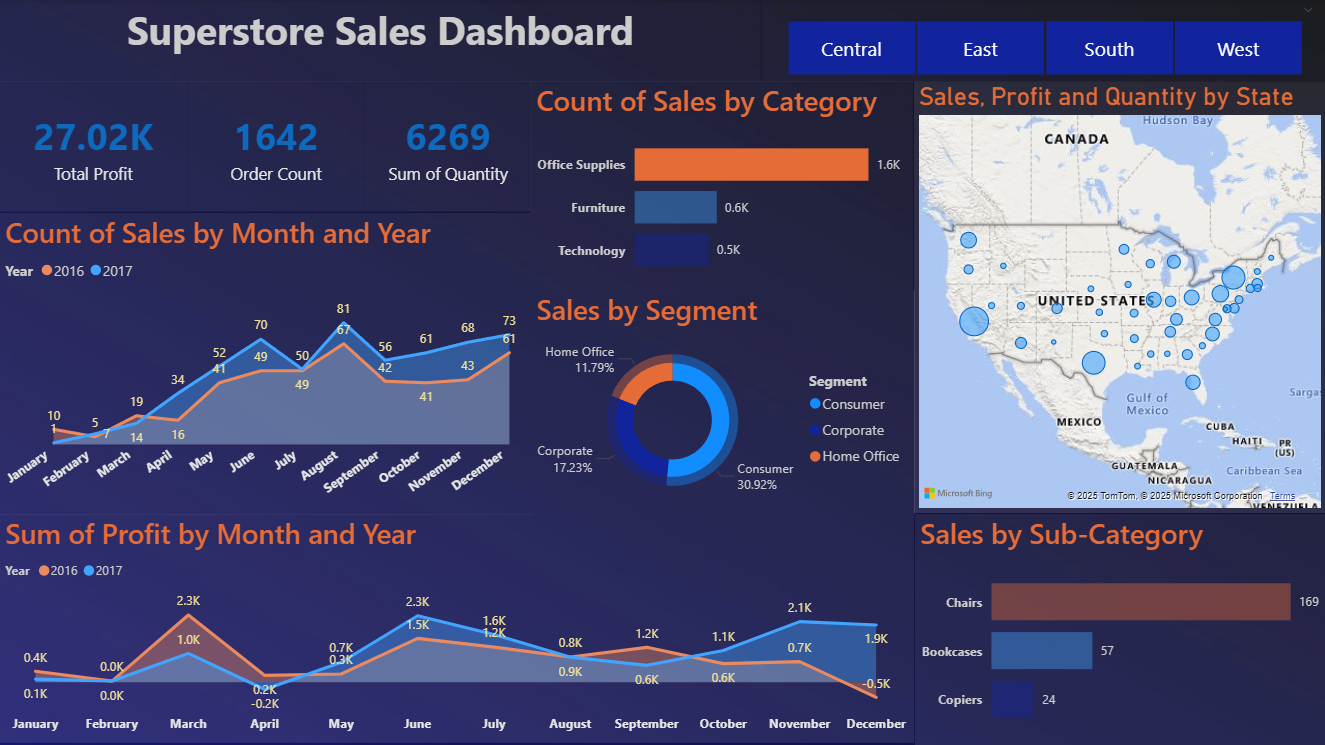

Layout of this report page (visuals, bound fields, positions):
{"tool":"powerbi","page":{"name":"Page 1","canvas":[1280,720],"ordinal":0},"visuals":[{"type":"clusteredBarChart","fields":{"Category":["Superstore.Category"],"Y":["CountNonNull(Superstore.Sales)"]},"box":[513.2,79.6,369.1,201.7],"z":0},{"type":"clusteredBarChart","title":"Sales by Sub-Category","fields":{"Y":["CountNonNull(Superstore.Sales)"],"Category":["Superstore.Sub-Category"]},"box":[882.9,497.1,397.1,222.9],"z":1000},{"type":"areaChart","fields":{"Category":["Superstore.Ship Date.Variation.Date Hierarchy.Month","Superstore.Ship Date.Variation.Date Hierarchy.Day"],"Y":["CountNonNull(Superstore.Sales)"],"Series":["Superstore.Order Date.Variation.Date Hierarchy.Year"]},"box":[0,205.7,512.9,291.4],"z":2000},{"type":"areaChart","fields":{"Category":["Superstore.Ship Date.Variation.Date Hierarchy.Month","Superstore.Ship Date.Variation.Date Hierarchy.Day"],"Series":["Superstore.Order Date.Variation.Date Hierarchy.Year"],"Y":["Sum(Superstore.Profit)"]},"box":[0,496.7,882.3,220.9],"z":3000},{"type":"map","title":"Sales, Profit and Quantity by State","fields":{"Category":["Superstore.State"],"Size":["CountNonNull(Superstore.Sales)"]},"box":[881.7,80,398.3,416.7],"z":4000},{"type":"donutChart","title":"Sales by Segment","fields":{"Category":["Superstore.Segment"],"Y":["CountNonNull(Superstore.Sales)"]},"box":[512.9,281.4,370,215.7],"z":5000},{"type":"slicer","title":"Region","fields":{"Values":["Superstore.Region"]},"box":[734.3,0,545.7,80],"z":6000},{"type":"textbox","box":[0,0,734.3,80],"z":7000},{"type":"card","fields":{"Values":["Superstore.Order Count"]},"box":[181.4,80,171.4,125.7],"z":8000},{"type":"card","fields":{"Values":["Superstore.Total Profit"]},"box":[0,80,180.8,125.8],"z":9000},{"type":"card","fields":{"Values":["Sum(Superstore.Quantity)"]},"box":[352.5,80,160.8,125.8],"z":10000}]}

Visuals, with their boxes in screenshot pixels (x1, y1, x2, y2), scaled from the page's 1280x720 canvas onto the 1325x745 screenshot:
clusteredBarChart - Superstore.Category x CountNonNull(Superstore.Sales): select_region(531, 82, 913, 291)
"Sales by Sub-Category" clusteredBarChart: select_region(914, 514, 1324, 744)
areaChart - Superstore.Ship Date.Variation.Date Hierarchy.Month x Superstore.Ship Date.Variation.Date Hierarchy.Day: select_region(0, 213, 531, 514)
areaChart - Superstore.Ship Date.Variation.Date Hierarchy.Month x Superstore.Ship Date.Variation.Date Hierarchy.Day: select_region(0, 514, 913, 743)
"Sales, Profit and Quantity by State" map: select_region(913, 83, 1324, 514)
"Sales by Segment" donutChart: select_region(531, 291, 914, 514)
"Region" slicer: select_region(760, 0, 1324, 83)
textbox: select_region(0, 0, 760, 83)
card - Superstore.Order Count: select_region(188, 83, 365, 213)
card - Superstore.Total Profit: select_region(0, 83, 187, 213)
card - Sum(Superstore.Quantity): select_region(365, 83, 531, 213)
